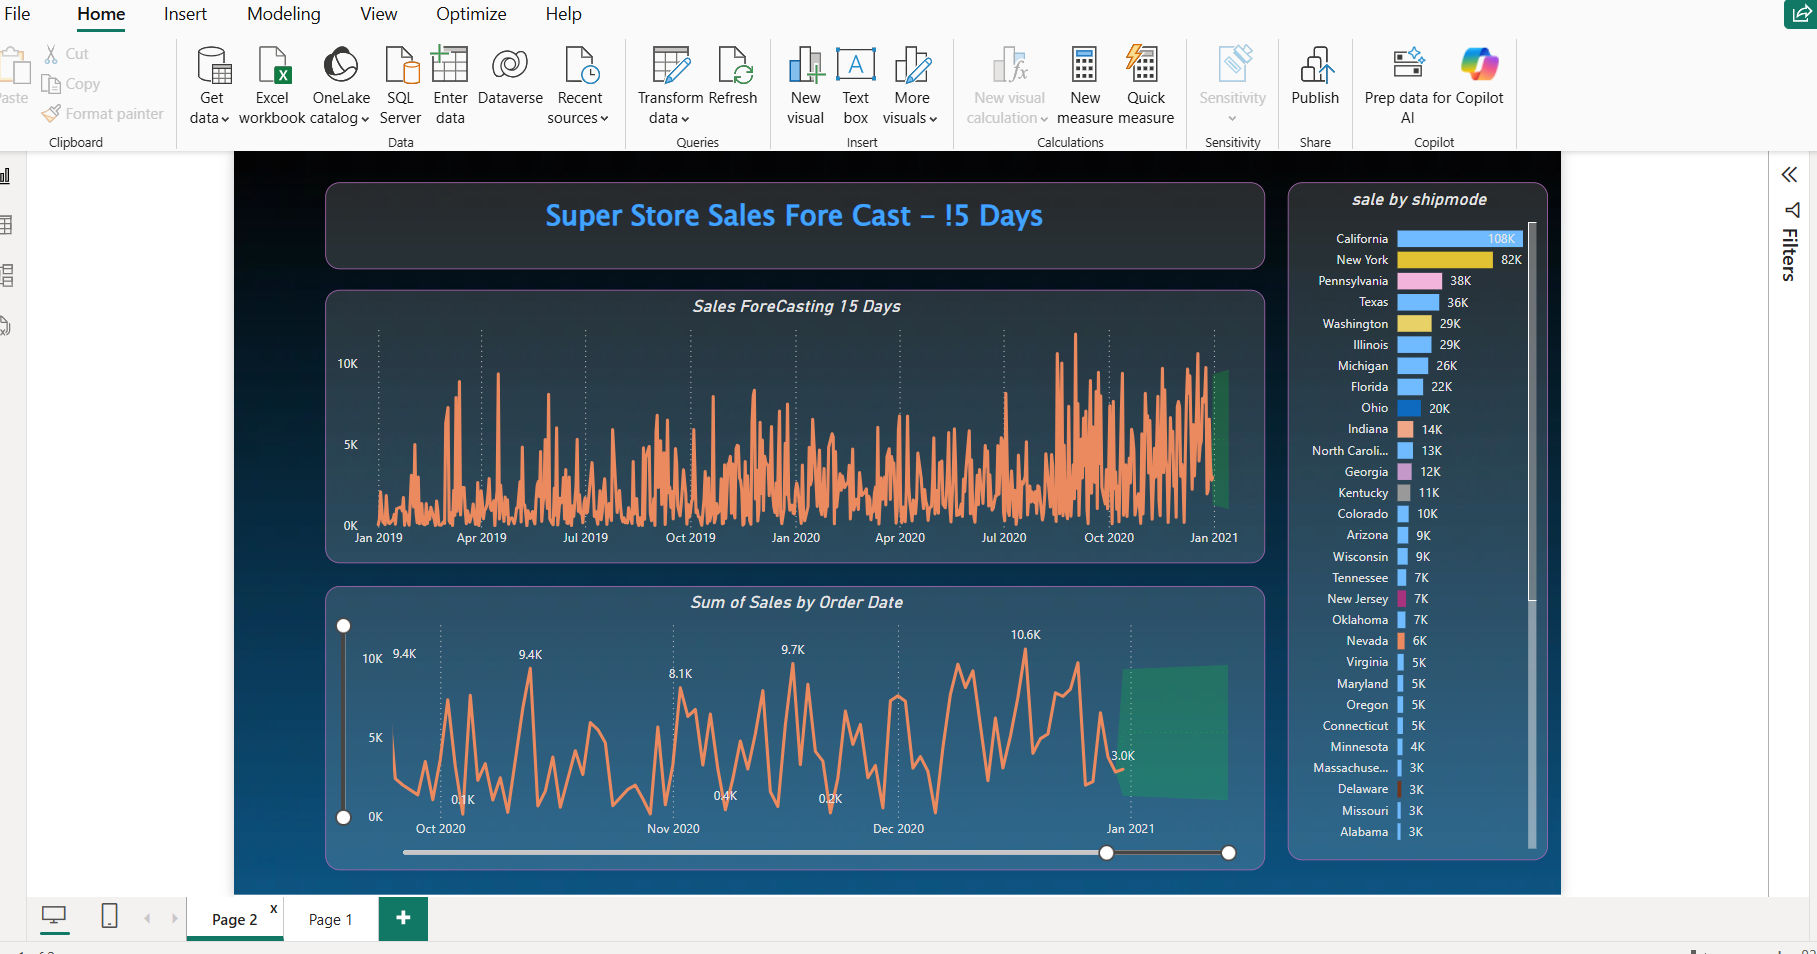

What the dashboard file says about the page in this screenshot:
{"tool":"powerbi","page":{"name":"Page 2","canvas":[1280,720],"ordinal":0},"visuals":[{"type":"lineChart","title":"Sales ForeCasting 15 Days","fields":{"Y":["Sum(SuperStore_Sales_Dataset.Sales)"],"Category":["SuperStore_Sales_Dataset.Order Date"]},"box":[88.6,134.3,907.1,264.3],"z":0},{"type":"lineChart","fields":{"Y":["Sum(SuperStore_Sales_Dataset.Sales)"],"Category":["SuperStore_Sales_Dataset.Order Date"]},"box":[88.6,420,907.1,274.3],"z":1000},{"type":"clusteredBarChart","title":"sale by shipmode","fields":{"Category":["SuperStore_Sales_Dataset.State","SuperStore_Sales_Dataset.Ship Mode"],"Y":["Sum(SuperStore_Sales_Dataset.Sales)"]},"box":[1017.1,30,251.4,654.3],"z":2000},{"type":"textbox","box":[88.6,30,907.1,84.3],"z":2001}]}

Visuals, with their boxes on the page's 1280x720 design canvas (x1, y1, x2, y2). These are canvas units, not pixel positions in the 1817x954 screenshot, which may show the page scaled, cropped or inside an application window:
"Sales ForeCasting 15 Days" lineChart: crop(89, 134, 996, 399)
lineChart - Sum(SuperStore_Sales_Dataset.Sales) x SuperStore_Sales_Dataset.Order Date: crop(89, 420, 996, 694)
"sale by shipmode" clusteredBarChart: crop(1017, 30, 1268, 684)
textbox: crop(89, 30, 996, 114)
